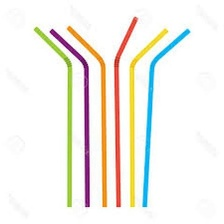drinking_straw: (138, 25, 194, 209), (30, 22, 77, 209), (110, 13, 142, 209)
